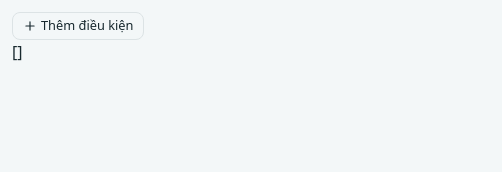
Scenario: addingAConditionPicksTheFirstField
Click the button "Thêm điều kiện" at (78, 26), box [12,12,144,40]
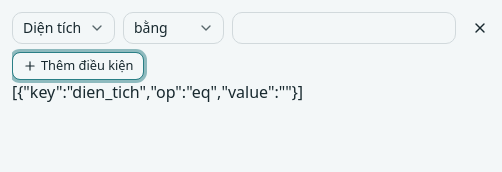
Result: the dropdown named "Mục của điều kiện 1" shows "Diện tích" at [12,12,115,44]
